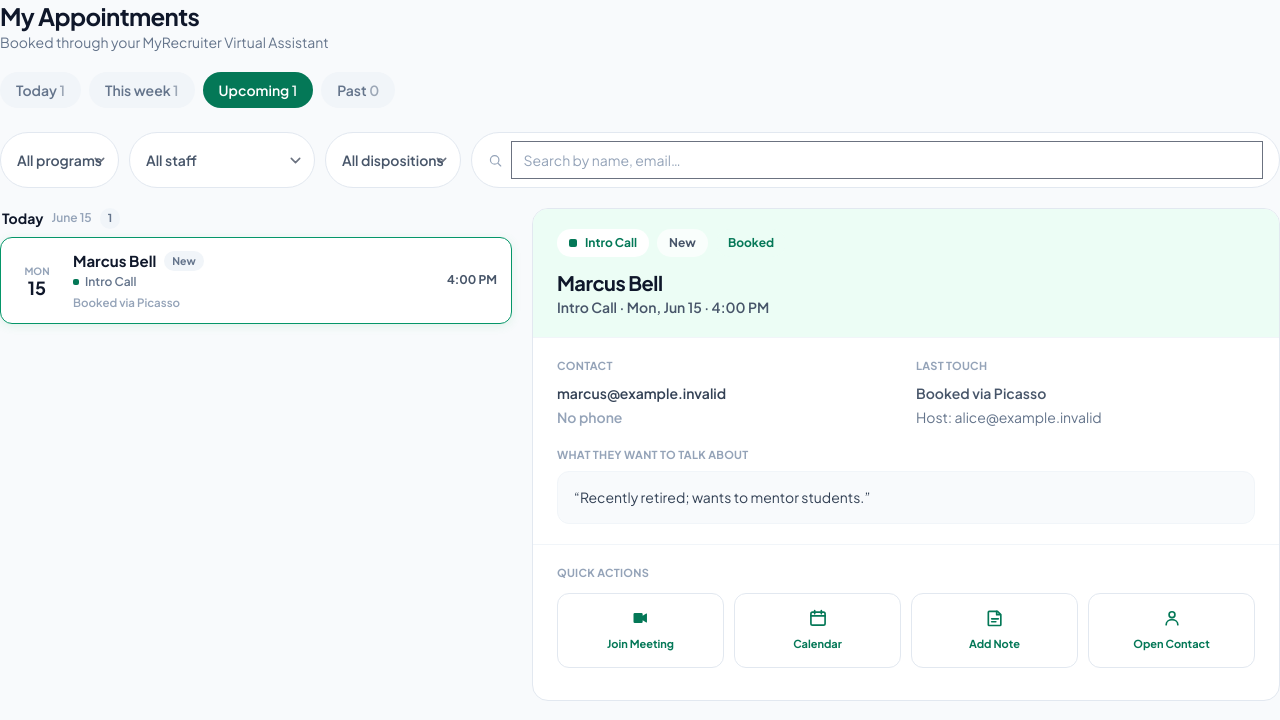
Test case: MyAppointments (employee scheduling view) › renders the joined lead data (note inline + app name / form fields in the panel)
Check: the text "“Recently retired; wants to mentor students.”" is shown, box [557, 471, 1255, 524]
Note: …and the panel shows the form's app name + the joined form responses.
Click the button "Open Contact" at (1172, 631), box [1088, 593, 1255, 668]
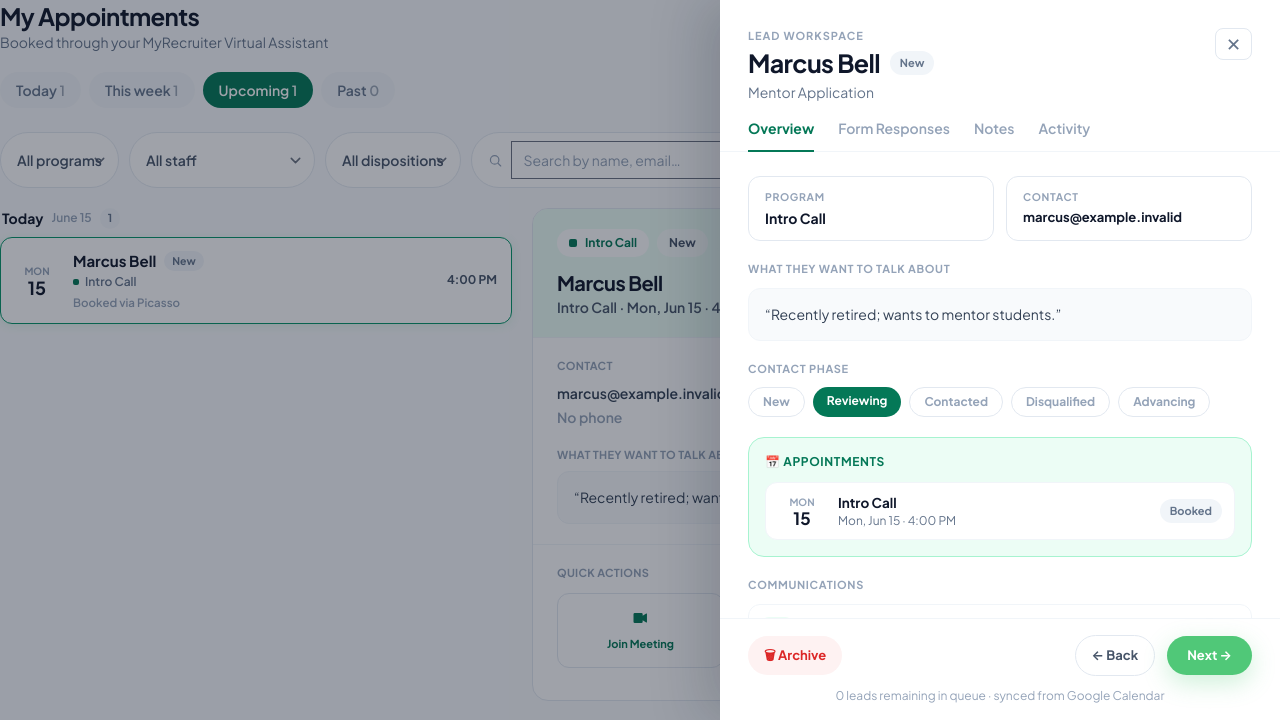
Check: the text "Mentor Application" is shown, box [748, 82, 874, 100]
Click the tab "Form Responses" at (894, 134), box [838, 118, 950, 152]
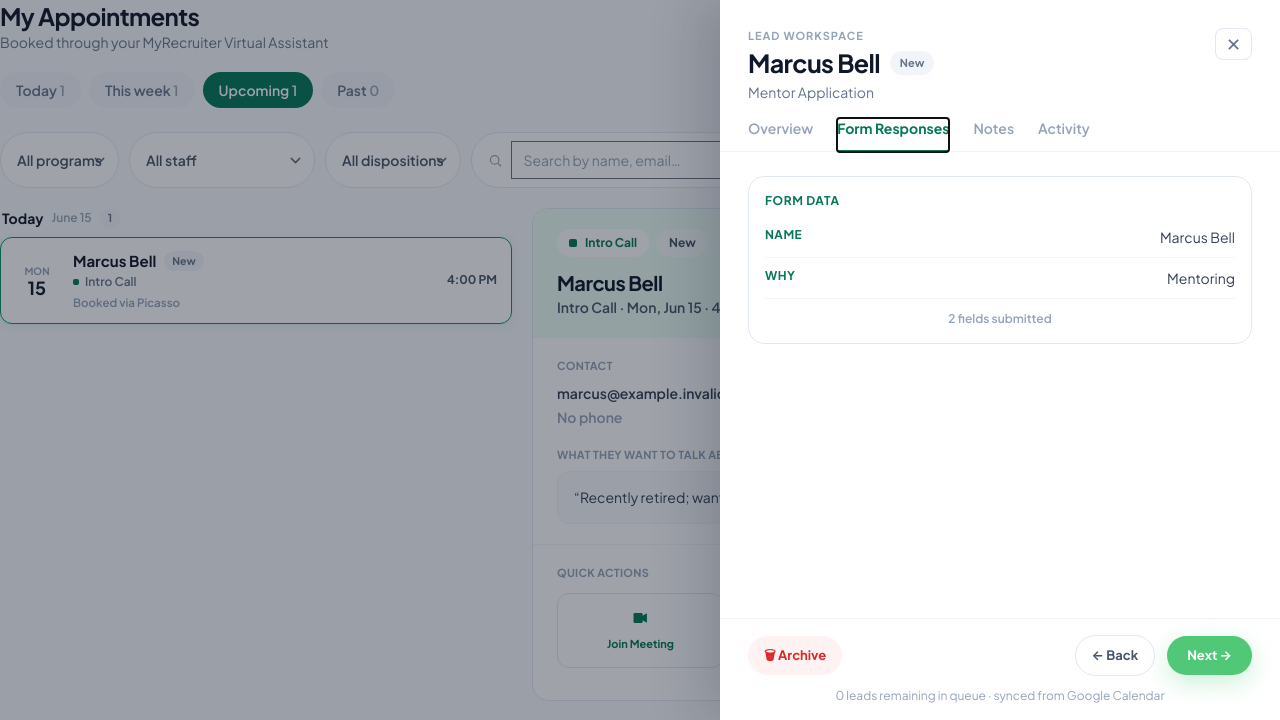
Check: the text "2 fields submitted" is shown, box [948, 310, 1052, 326]
